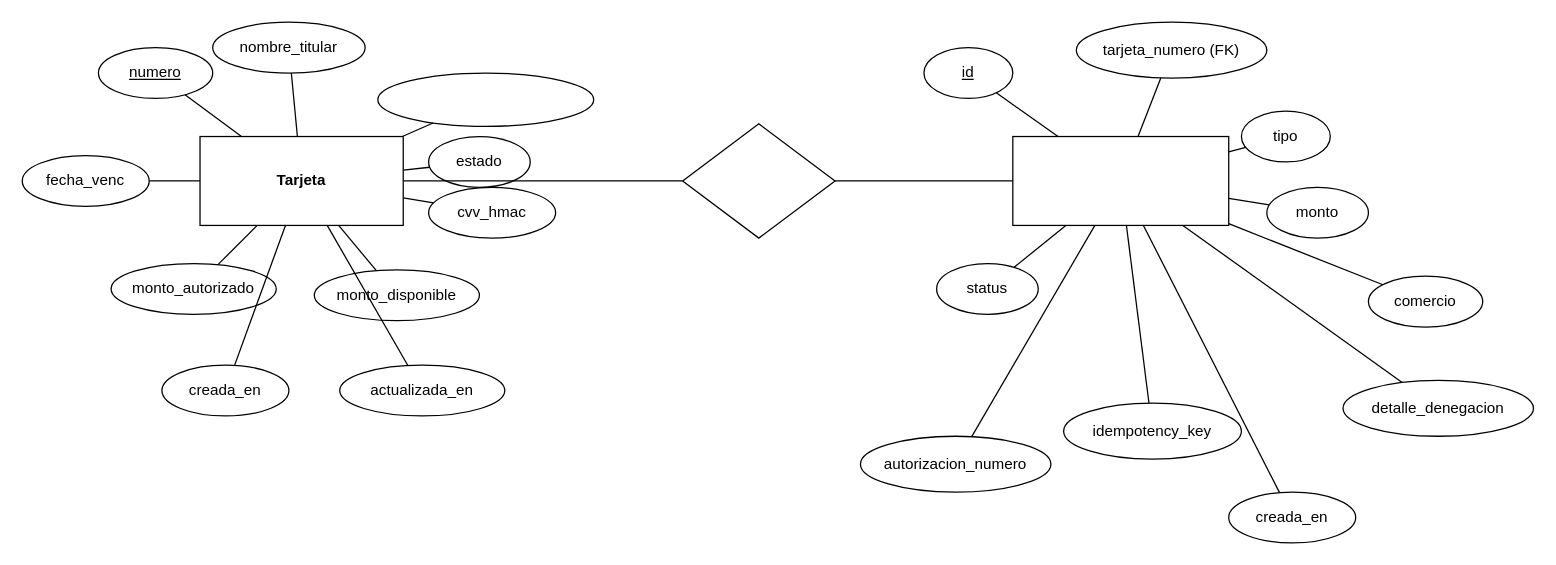
This 1556x565 diagram has some shape labels left out. The centre of each missing label's shape, as x and y in pixels:
nombre_titular_normalizado: the point at 485,99
registra: the point at 758,180
Transaccion: the point at 1120,180
